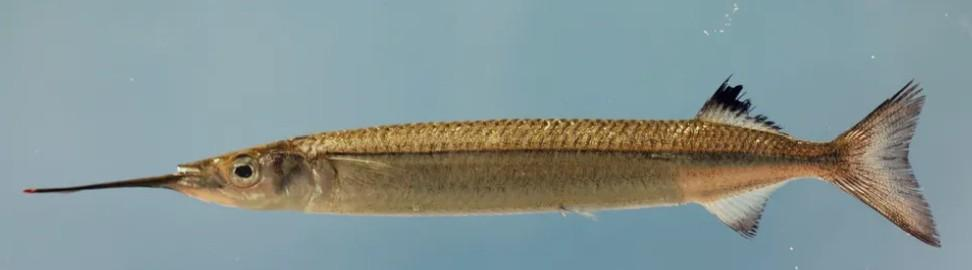fish: (24, 81, 944, 248)
